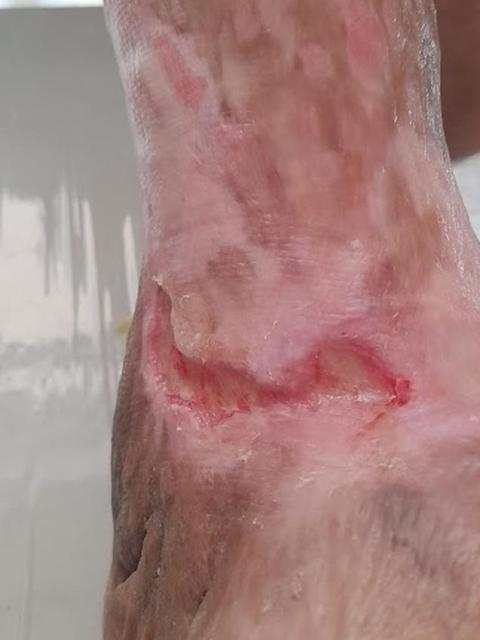wound: (140, 279, 414, 432)
